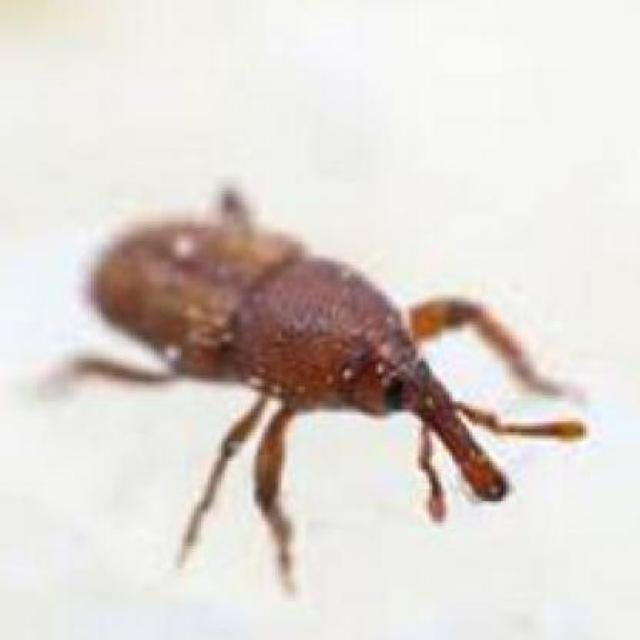rice-bug: (84, 208, 524, 560)
